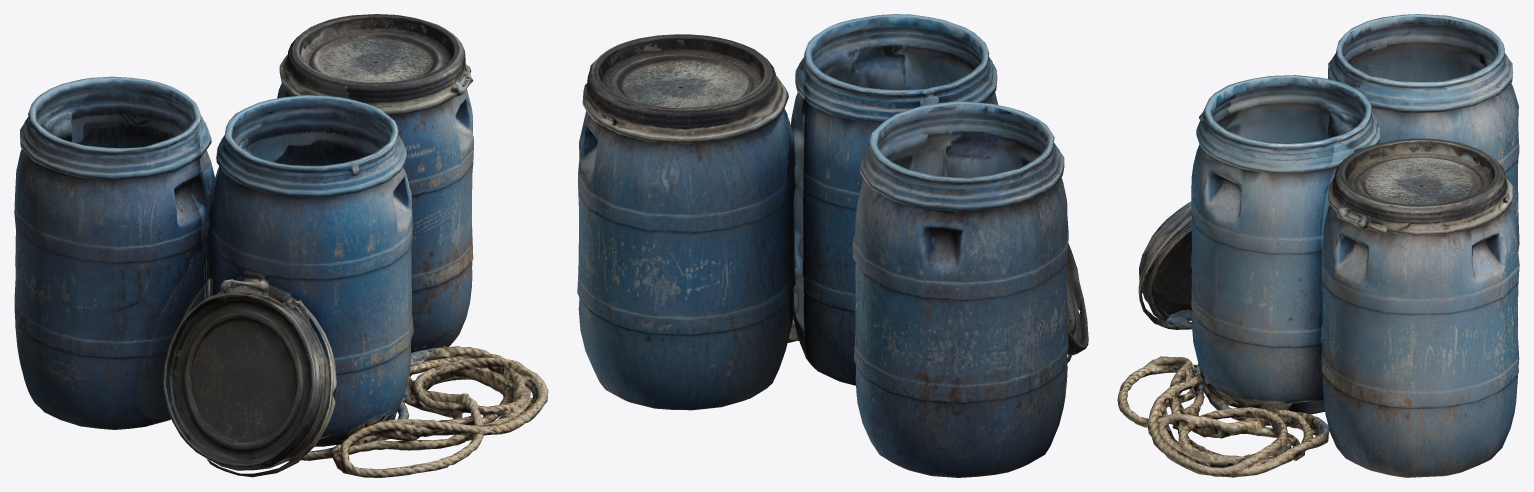
Rendered from WaterDrums.glb.
The picture shows the model from 3 angles, left to right: view 1: azimuth 30°, elevation 25°; view 2: azimuth 150°, elevation 25°; view 3: azimuth 270°, elevation 25°; orthographic projection. The views are drawn at different scales.
Visible parts, largest first — view 1: texture_mapping; view 2: texture_mapping; view 3: texture_mapping.
Part boxes in pixels (left/top/right/bottom): texture_mapping: left=14, top=14, right=548, bottom=477; texture_mapping: left=577, top=14, right=1088, bottom=477; texture_mapping: left=1117, top=14, right=1519, bottom=477.
Bounding box in the file's own units: 0.9997 × 0.6411 × 0.8358.
Materials: 1 (1 with a texture image).
